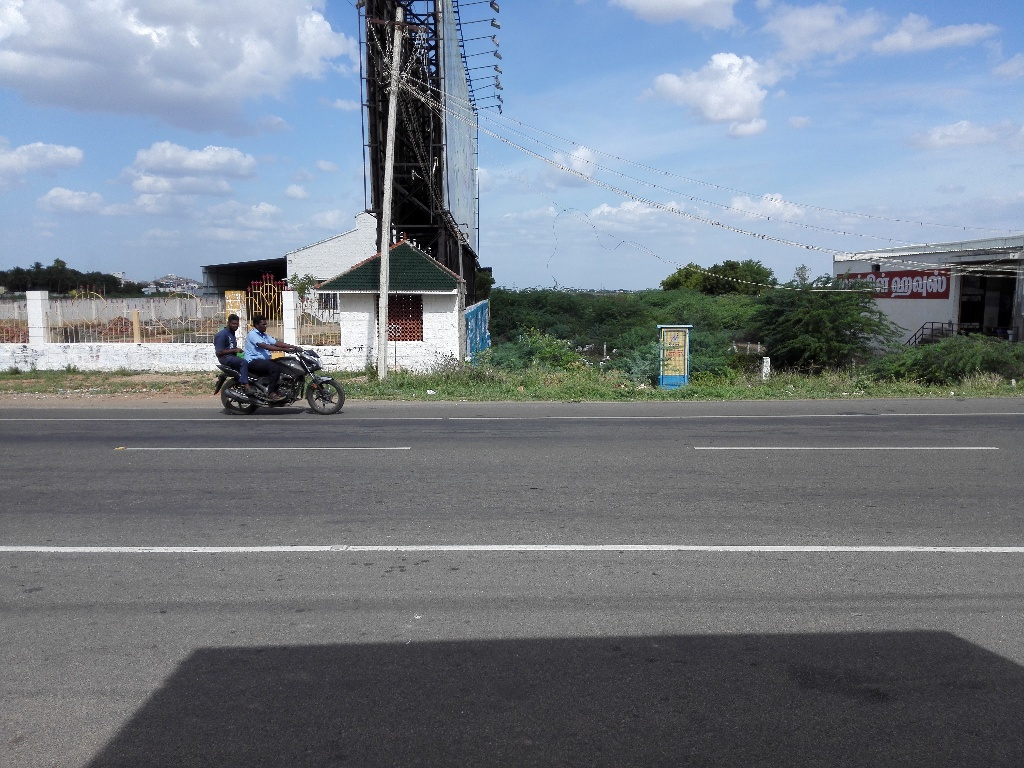biker: (201, 281, 357, 425)
nohelmet: (245, 302, 277, 343), (216, 300, 248, 341)
